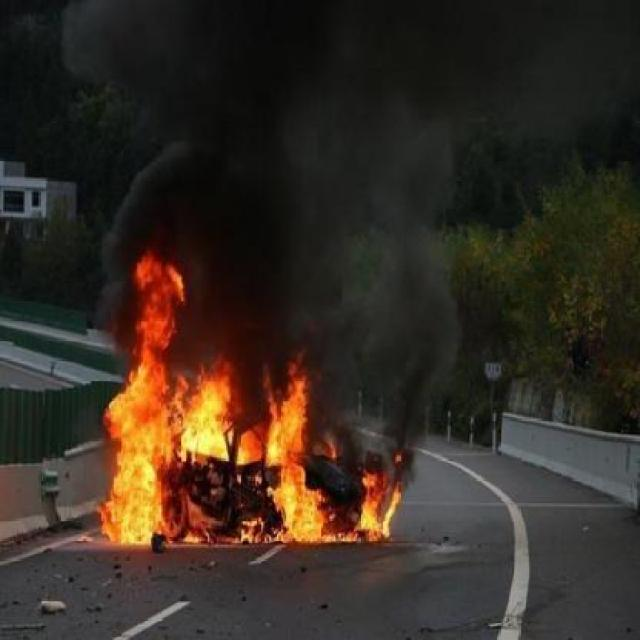Fire: (96, 243, 410, 548)
